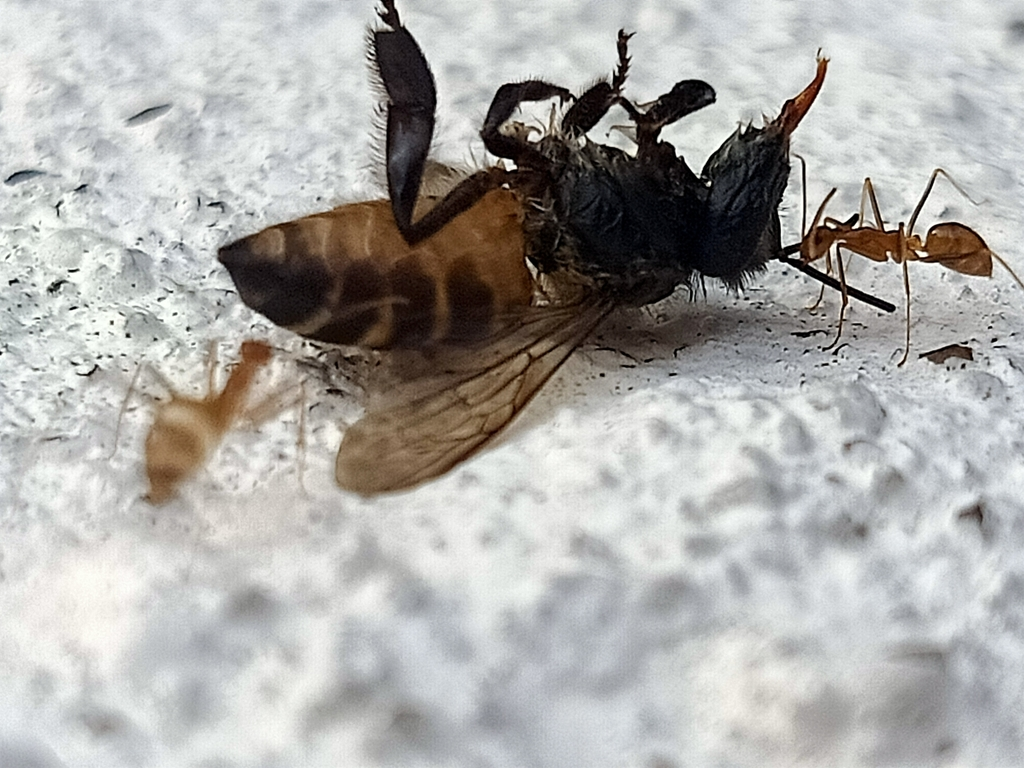not_bumblebee: (215, 3, 901, 501)
